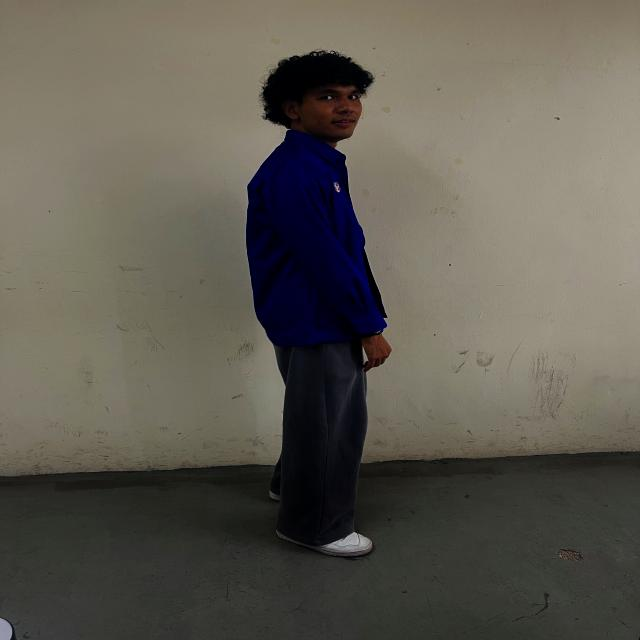person_with_labcoat: (246, 52, 392, 558)
